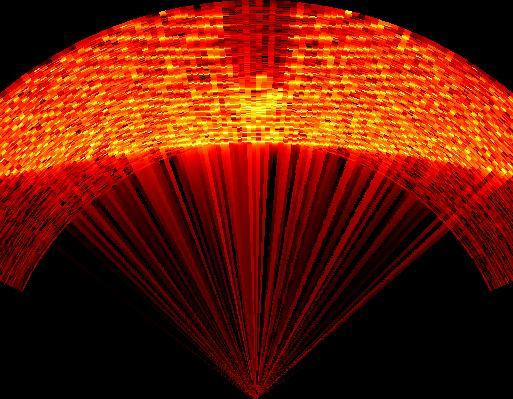box_crate: (222, 5, 294, 85)
